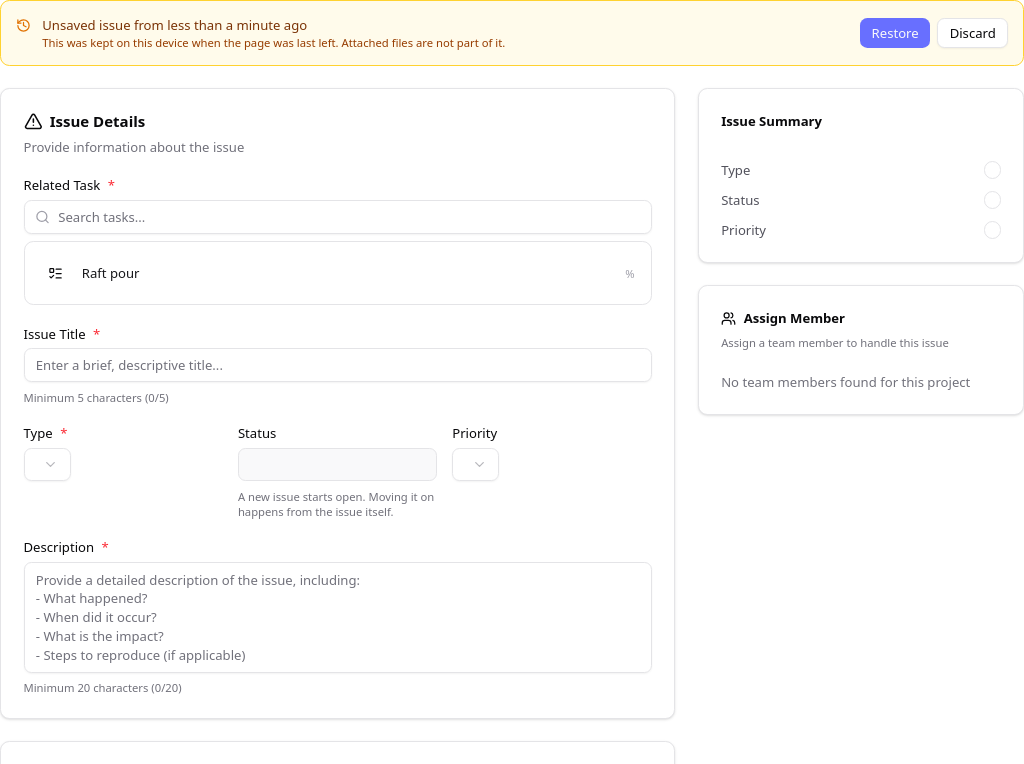
Scenario: IssueForm restored draft › a legacy Resolved draft comes back open
Click the button "Restore": x=895, y=33 [860,18,930,48]
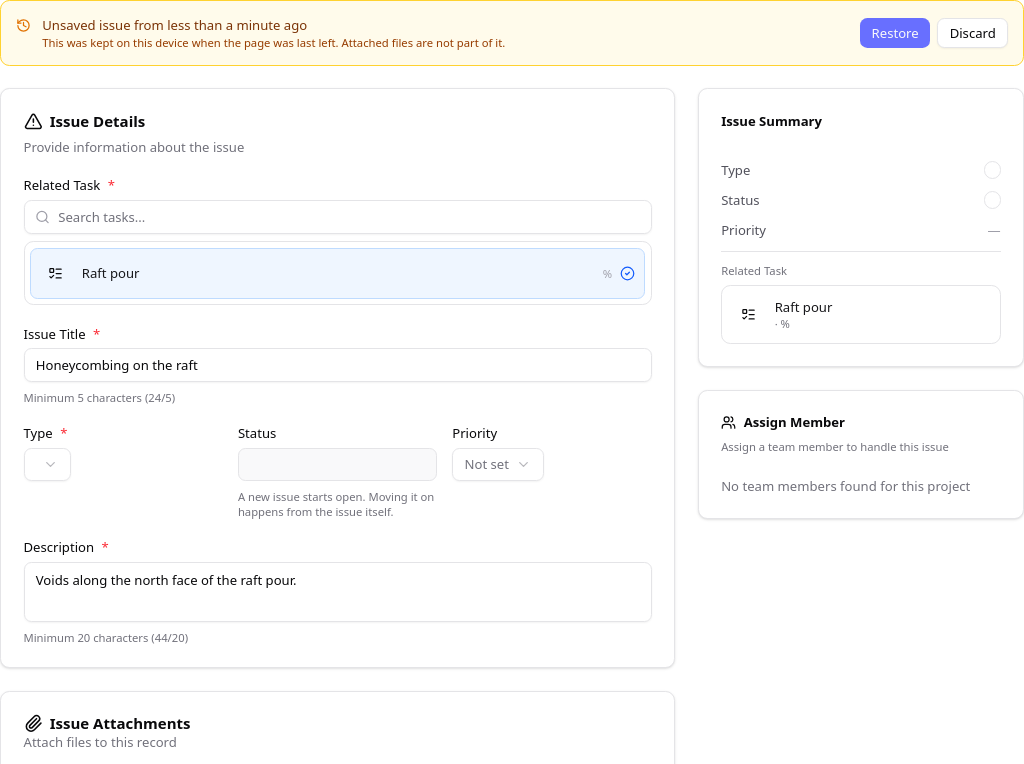
Expected: the field with id "title" holds "Honeycombing on the raft", [24,348,652,382]
